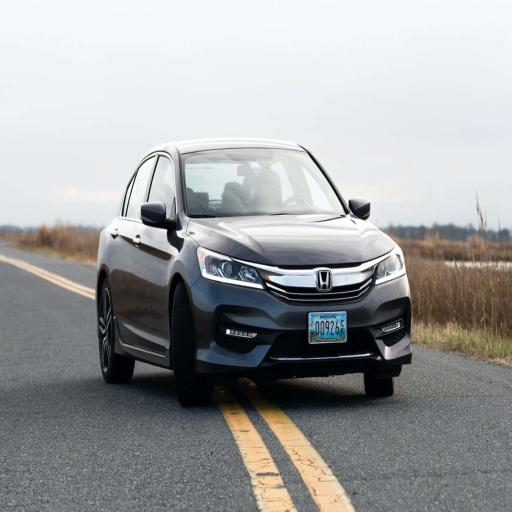Sedan-sDLz: (96, 138, 411, 405)
